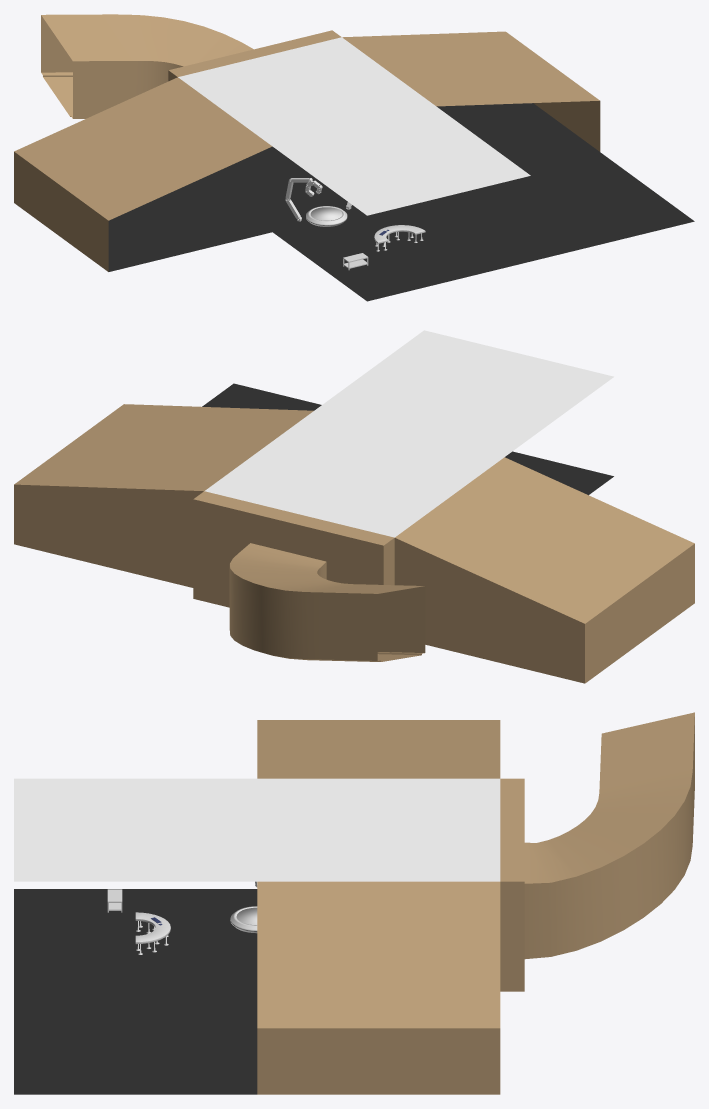
File: lab.glb
The picture shows the model from 3 angles, top to bottom: view 1: azimuth 30°, elevation 25°; view 2: azimuth 150°, elevation 25°; view 3: azimuth 270°, elevation 25°; orthographic projection. The views are drawn at different scales.
Visible parts, largest first — view 1: Floor2.001, Roof, Wall, Exit, Floor.001, Floor, Floor2, DisplayCircle, Desk; view 2: Floor2.001, Roof, Wall, Exit, Floor.001, Floor; view 3: Wall, Roof, Exit, Floor.001, Floor, Floor2.001, Desk, DisplayCircle.
Boxes of the visible parts, <box> form: Floor2.001: <box>14,77,272,271</box>; Roof: <box>178,37,530,215</box>; Wall: <box>342,31,600,170</box>; Exit: <box>41,14,341,118</box>; Floor.001: <box>443,152,694,261</box>; Floor: <box>273,197,530,301</box>; Floor2: <box>200,146,359,232</box>; DisplayCircle: <box>306,206,347,226</box>; Desk: <box>374,225,425,251</box>; Floor2.001: <box>394,457,694,683</box>; Roof: <box>204,330,613,537</box>; Wall: <box>14,404,313,587</box>; Exit: <box>193,491,425,661</box>; Floor.001: <box>202,383,321,410</box>; Floor: <box>505,451,613,495</box>; Wall: <box>257,881,500,1094</box>; Roof: <box>14,778,500,881</box>; Exit: <box>500,712,694,991</box>; Floor.001: <box>14,991,257,1094</box>; Floor: <box>14,889,257,991</box>; Floor2.001: <box>257,720,500,778</box>; Desk: <box>135,912,170,954</box>; DisplayCircle: <box>230,906,257,933</box>.
Bounding box in the file's own units: 30 × 6.67 × 28.
